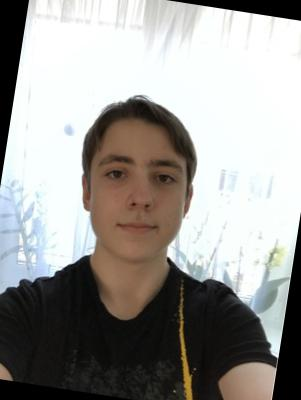without_mask: (80, 146, 193, 269)
